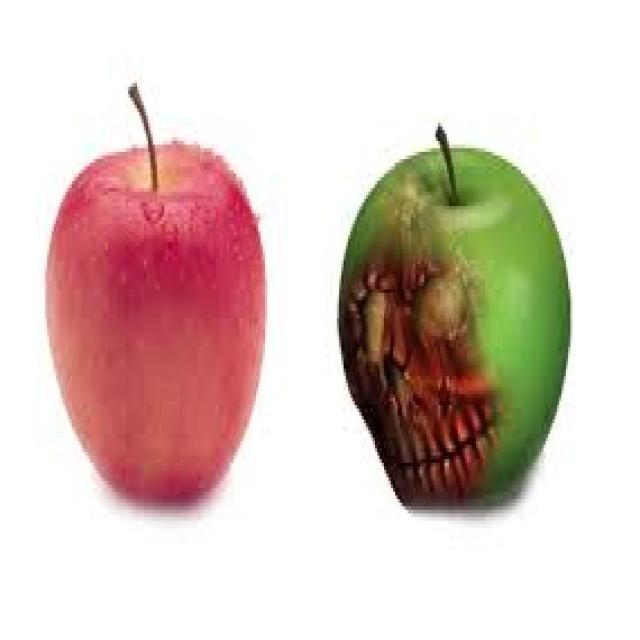organic: (45, 89, 264, 534)
